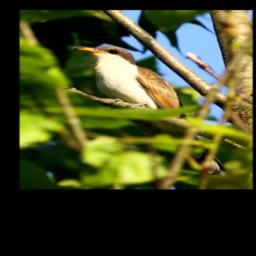Cuckoo: (68, 42, 232, 179)
